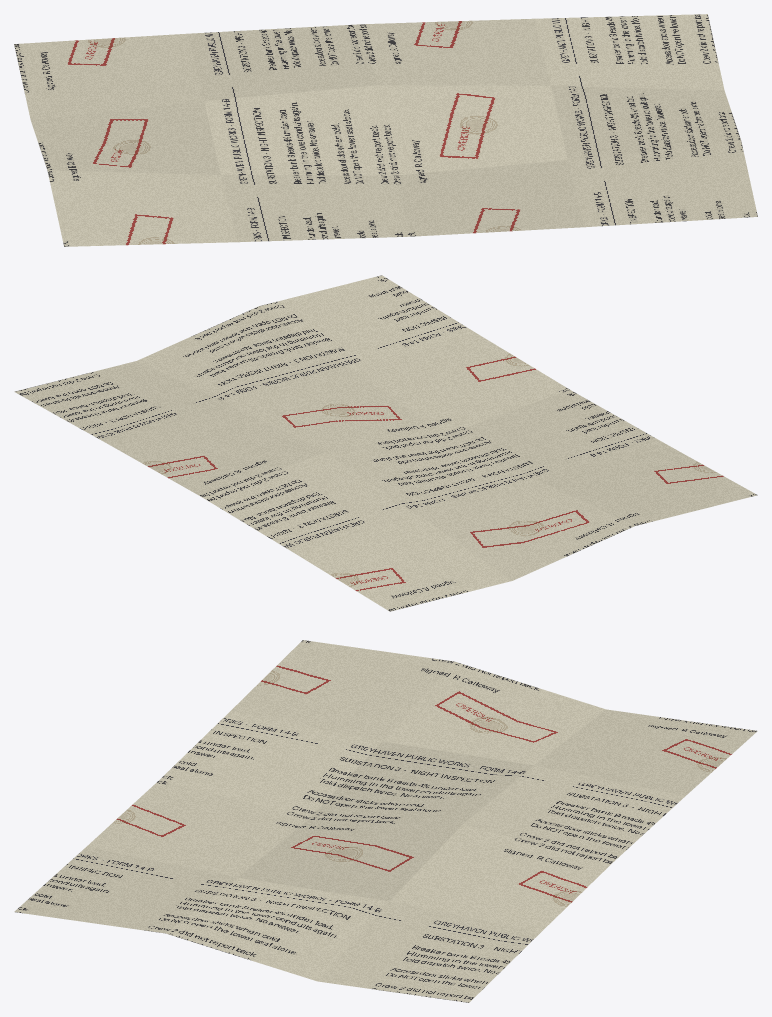
Rendered from PRP_Paper_Sheet_A.glb.
3 views of the same model, one above another, from view 1: azimuth 30°, elevation 25°; view 2: azimuth 150°, elevation 25°; view 3: azimuth 270°, elevation 25° (orthographic). The views are drawn at different scales.
Parts seen in each view (by area): view 1: Sheet0; view 2: Sheet0; view 3: Sheet0.
Boxes of the visible parts, <box> form: Sheet0: <box>14,14,757,246</box>; Sheet0: <box>14,275,757,611</box>; Sheet0: <box>14,640,757,1002</box>.
Bounding box in the file's own units: 0.7139 × 0.0199 × 0.6264.
1 material, 1 textured.
